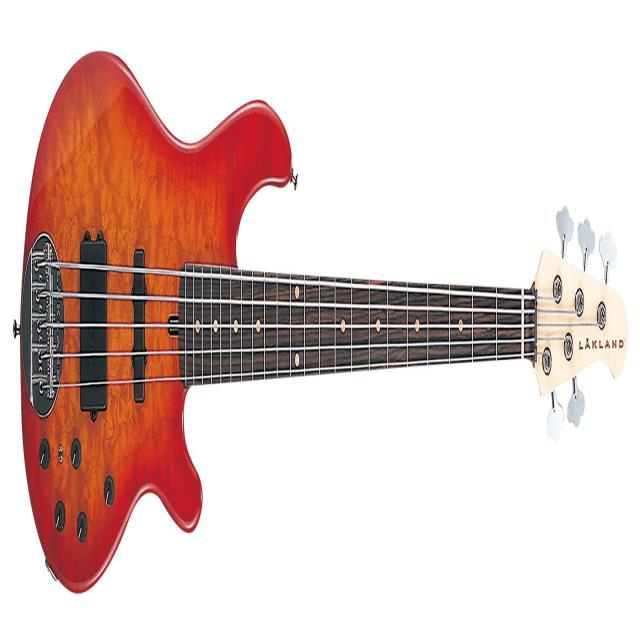bass: (14, 53, 626, 590)
